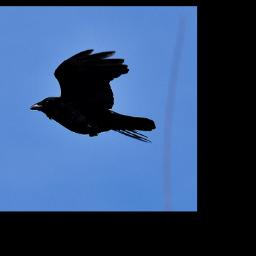Crow: (29, 49, 157, 145)
